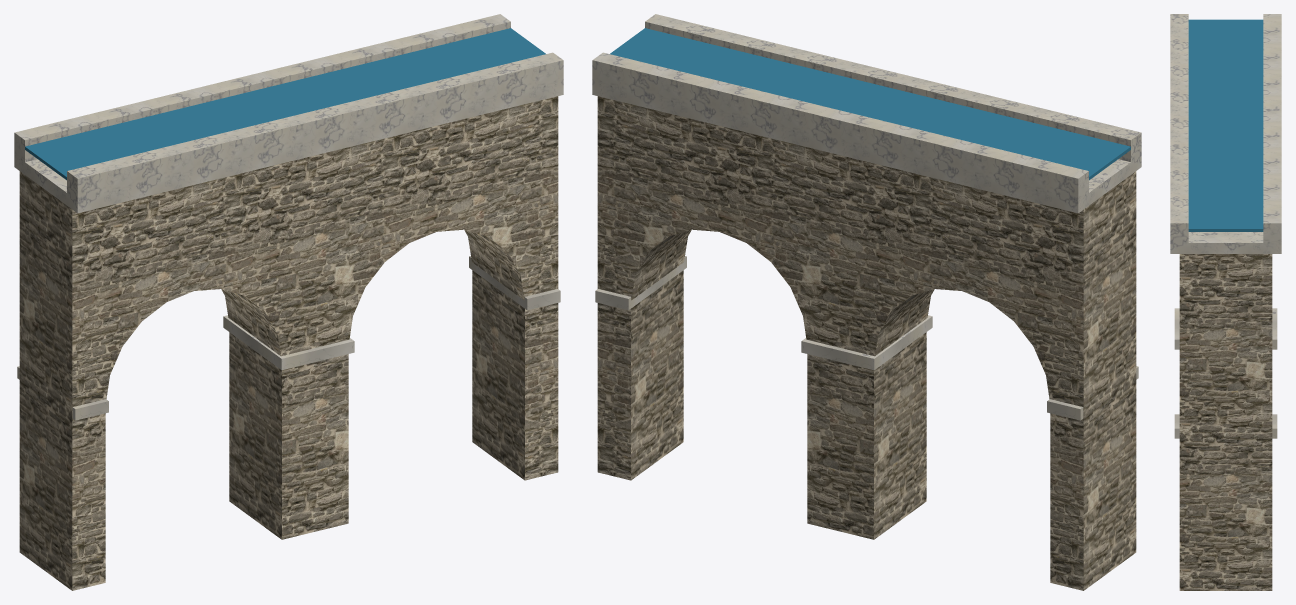
Rendered from civic_aqueduct.glb.
3 renders of one model, left to right at view 1: azimuth 30°, elevation 25°; view 2: azimuth 150°, elevation 25°; view 3: azimuth 270°, elevation 25°, orthographic. The views are drawn at different scales.
Visible parts, largest first — view 1: stone, step, water.001, marble; view 2: stone, step, water.001, marble; view 3: stone, water.001, step, marble.
Boxes of the visible parts, left/top/right/bottom form: stone: left=19, top=96, right=558, bottom=590; step: left=14, top=14, right=563, bottom=213; water.001: left=25, top=28, right=545, bottom=180; marble: left=17, top=256, right=560, bottom=420; stone: left=597, top=96, right=1136, bottom=590; step: left=592, top=14, right=1141, bottom=213; water.001: left=610, top=28, right=1130, bottom=180; marble: left=595, top=256, right=1138, bottom=420; stone: left=1179, top=254, right=1272, bottom=590; water.001: left=1188, top=19, right=1263, bottom=231; step: left=1170, top=14, right=1281, bottom=253; marble: left=1174, top=308, right=1277, bottom=438.
Bounding box in the file's own units: 8 × 6.55 × 1.8.
Materials: 4 (3 with a texture image).
